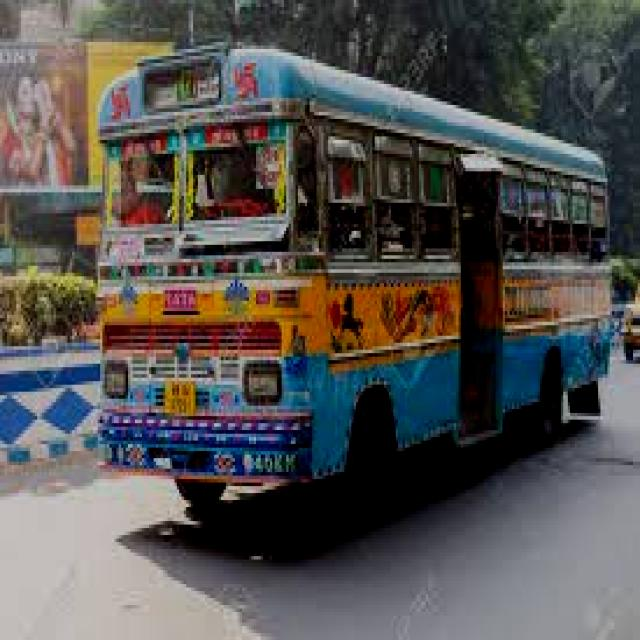bus: (90, 35, 639, 556)
